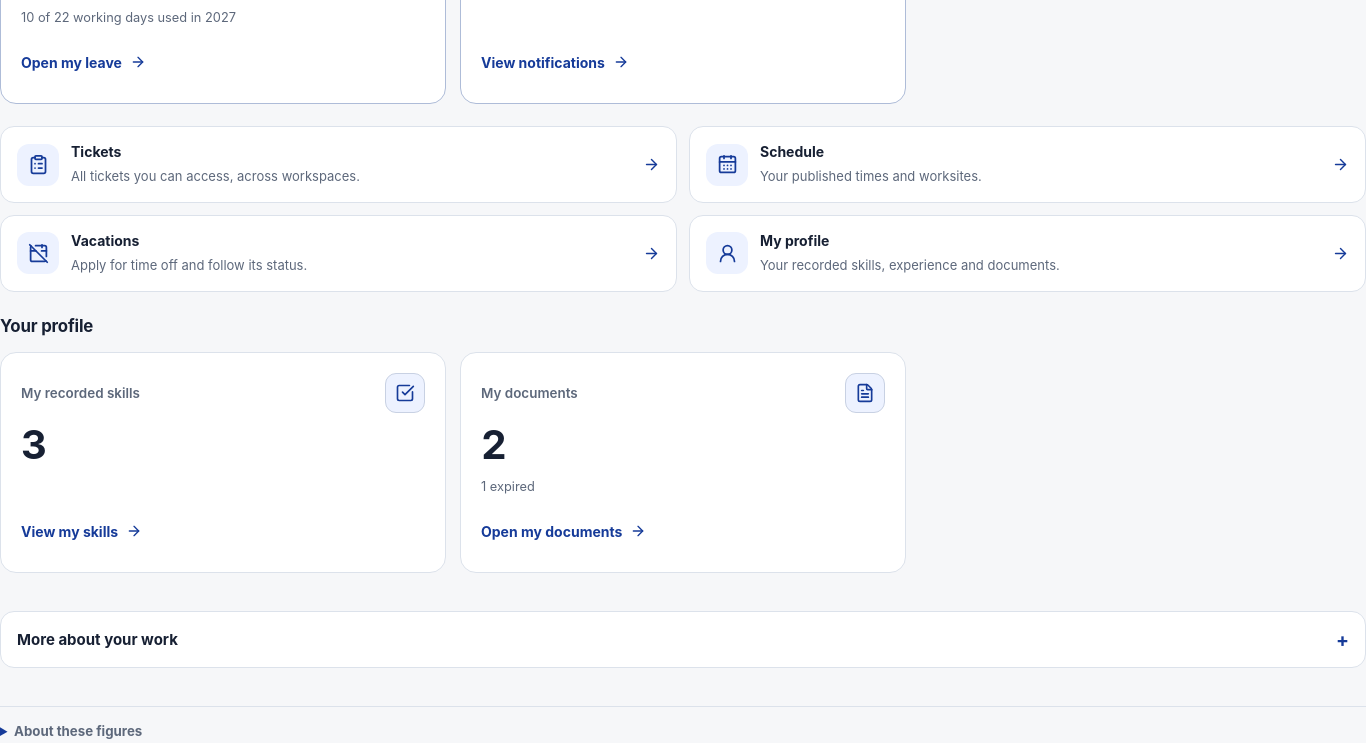
Phase 11 dashboard acceptance reconciliation › renders all five approved Employee information areas and no management surface
(page scrolled)
Click the heading "More about your work" at (97, 640), box [17,630,178,649]
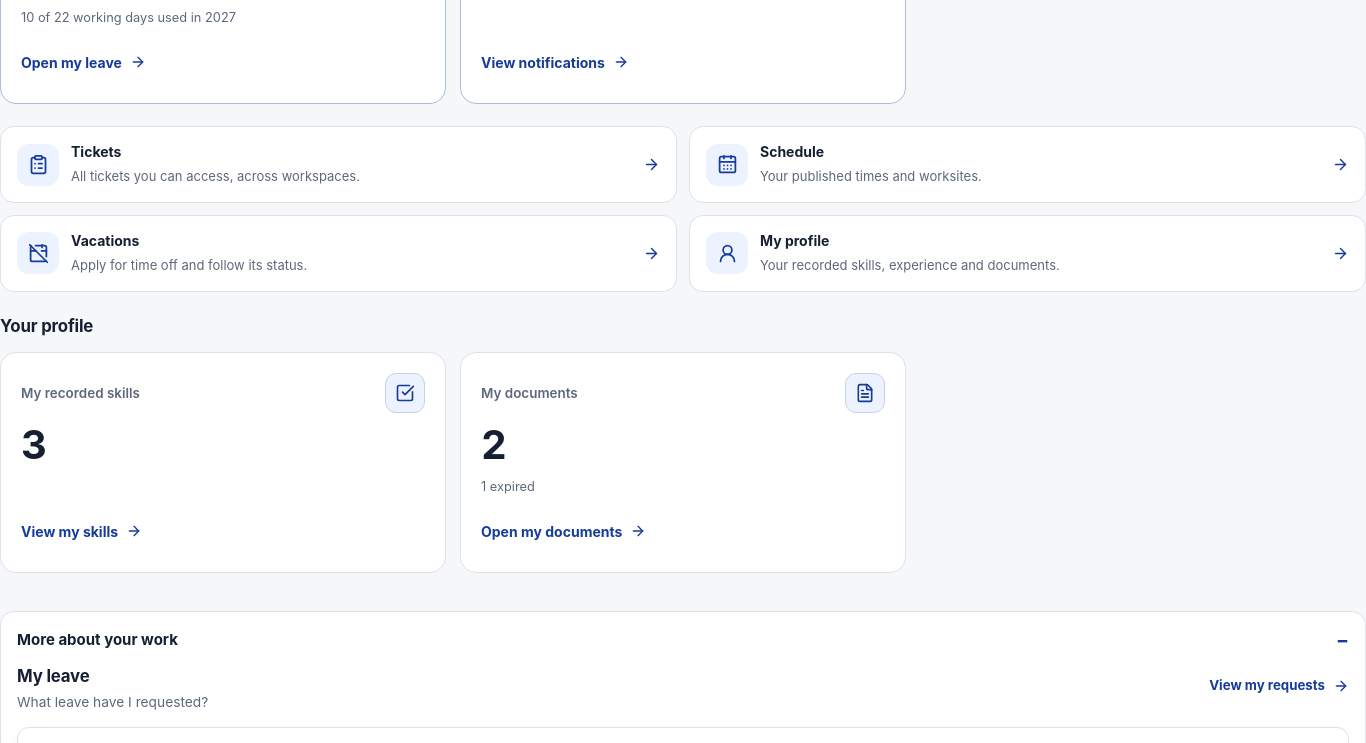
expect the text "My recorded skills" is shown: met, box [21,384,140,403]
expect the heading "My leave" is shown: met, box [17,666,90,686]
